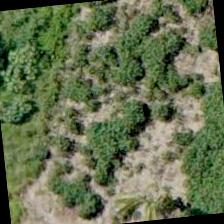Kelapa_Sawit: (100, 157, 197, 223)
